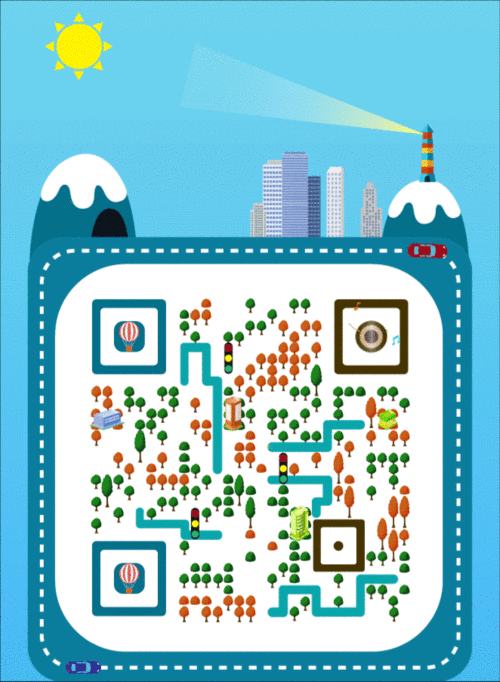QRCode: (79, 288, 424, 629)
